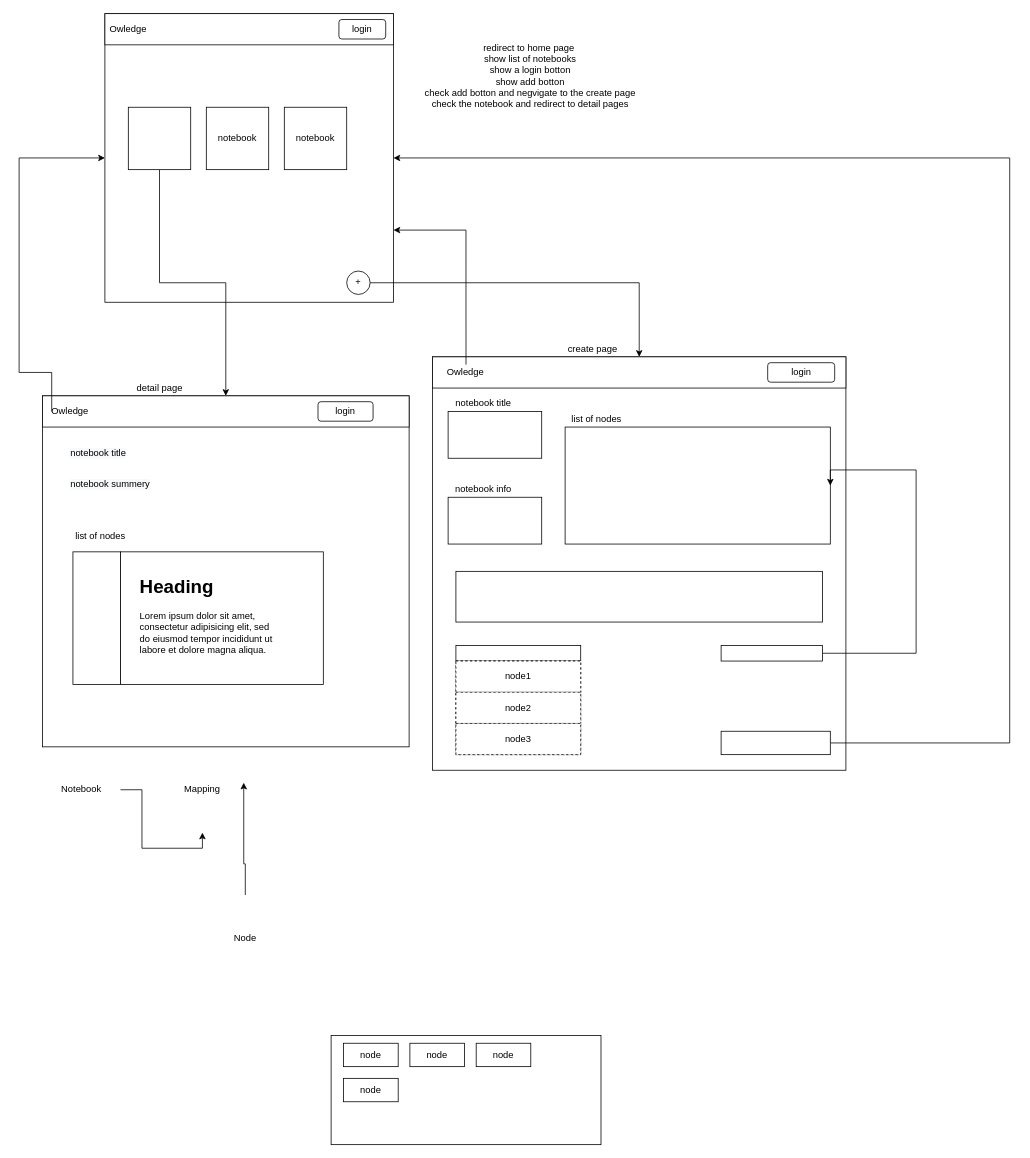
Image size: 1030x1158. Some labels were removed from this diagram. Each missing label, with the box of its shape:
child of: (455, 645, 581, 661)
finish creation for notebook: (720, 730, 830, 755)
notebook computer: (128, 106, 191, 170)
submit node: (720, 645, 823, 661)
Value 1 Value 2 Value 3: (72, 551, 121, 684)
write something here: (455, 571, 823, 622)
